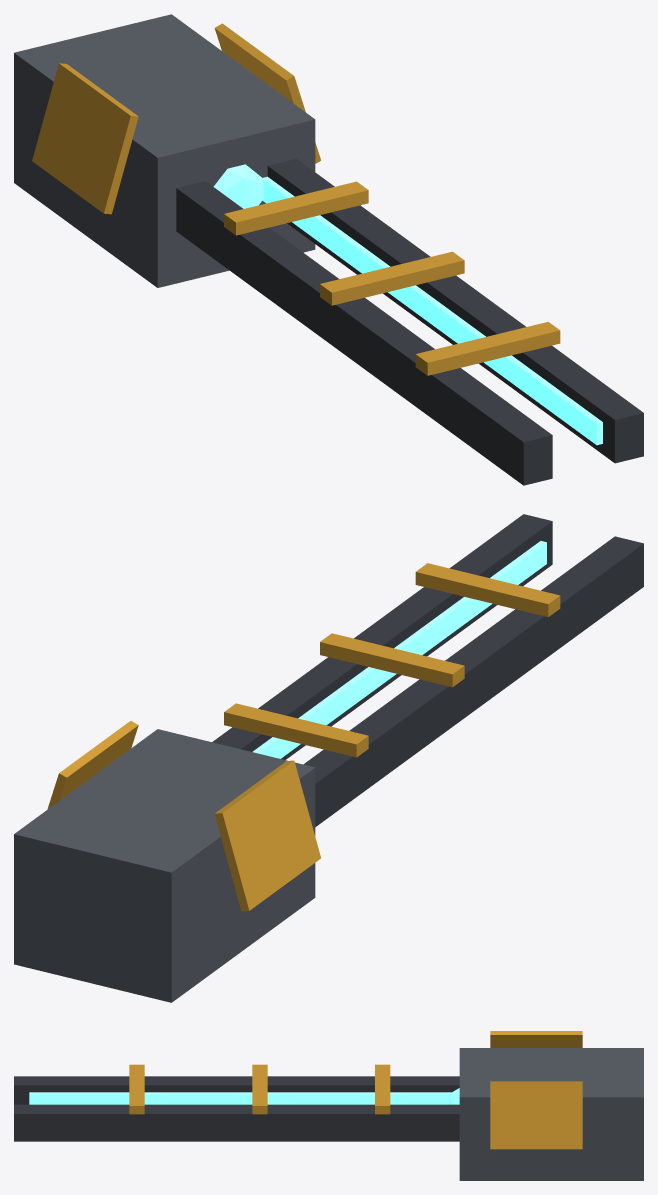
The model's file is wpn_alpha_buster.glb.
3 views of the same model, one above another, from view 1: azimuth 30°, elevation 25°; view 2: azimuth 150°, elevation 25°; view 3: azimuth 270°, elevation 25° (orthographic). The views are drawn at different scales.
Parts seen in each view (by area): view 1: weapon; view 2: weapon; view 3: weapon.
Part boxes in pixels (left/top/right/bottom): weapon: left=14, top=14, right=643, bottom=485; weapon: left=14, top=514, right=643, bottom=1002; weapon: left=14, top=1031, right=643, bottom=1180.
Size of the model in its own units: 0.5241 by 0.358 by 2.05.
